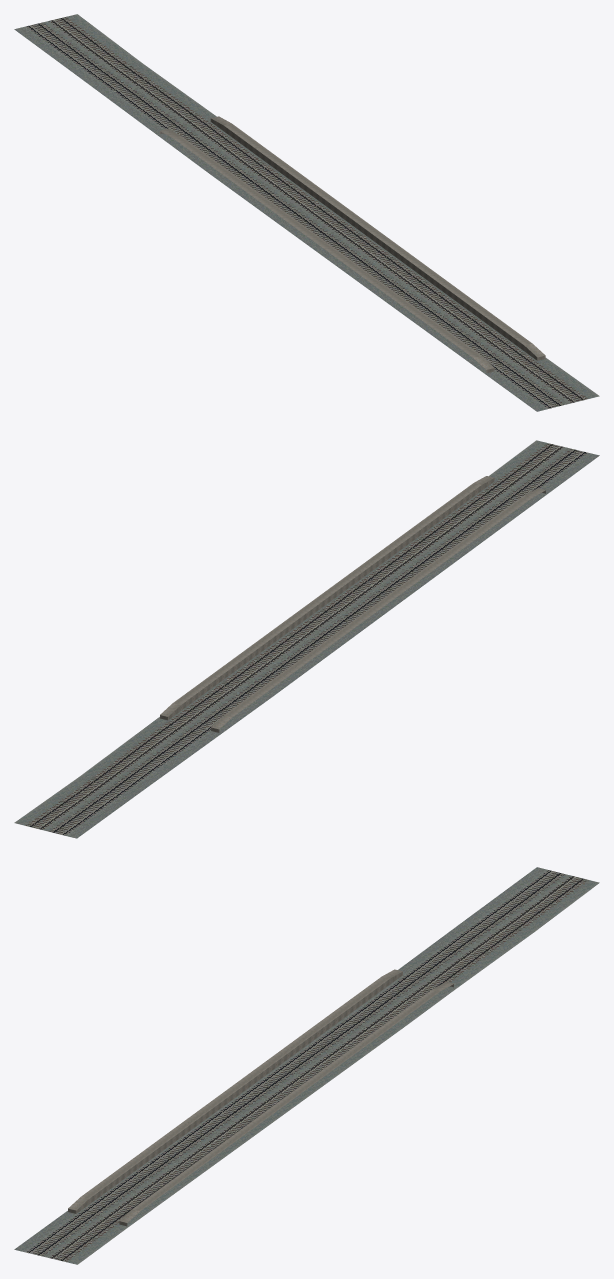
Rendered from lodrailroad04.obj.
3 renders of one model, top to bottom at view 1: azimuth 30°, elevation 25°; view 2: azimuth 150°, elevation 25°; view 3: azimuth 330°, elevation 25°, orthographic.
Parts seen in each view (by area): view 1: lodrailroad04; view 2: lodrailroad04; view 3: lodrailroad04.
Part boxes in pixels (box(x1,y1,x2,y2)): lodrailroad04: box(14, 14, 599, 411); lodrailroad04: box(14, 440, 599, 838); lodrailroad04: box(14, 867, 599, 1264).
Size of the model in its own units: 11.21 by 1.24 by 160.
Materials: 2 (2 with a texture image).
